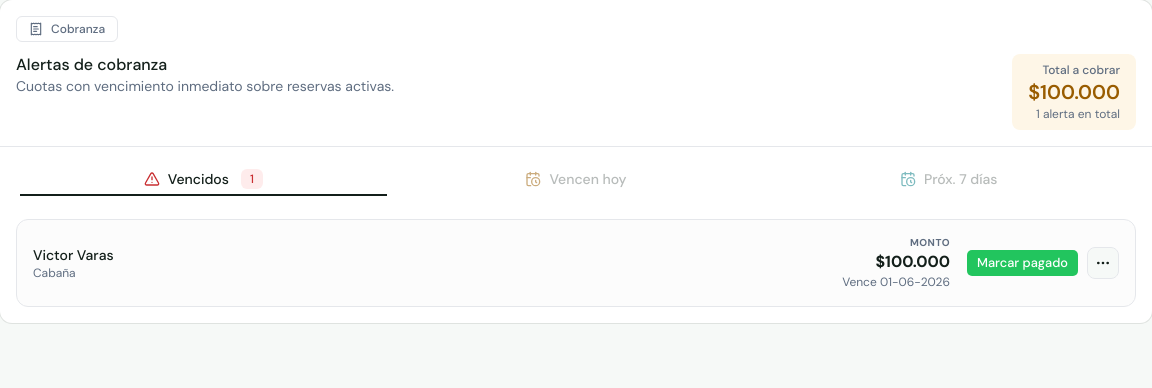
Scenario: UrgentCollectionCard › abre el menu de overflow con 'Generar link MP' y 'Ver reserva'
Click the button named "más acciones": (1103, 263) [1087,247,1119,279]
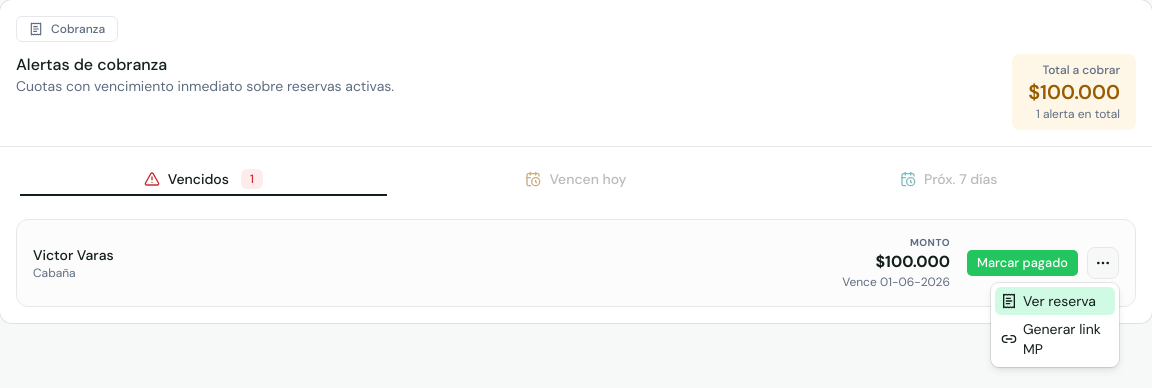
Expected: the menu item "Ver reserva" is shown, [995,287,1115,315]
Expected: the menu item "Generar link MP" is shown, [1001,320,1101,358]
